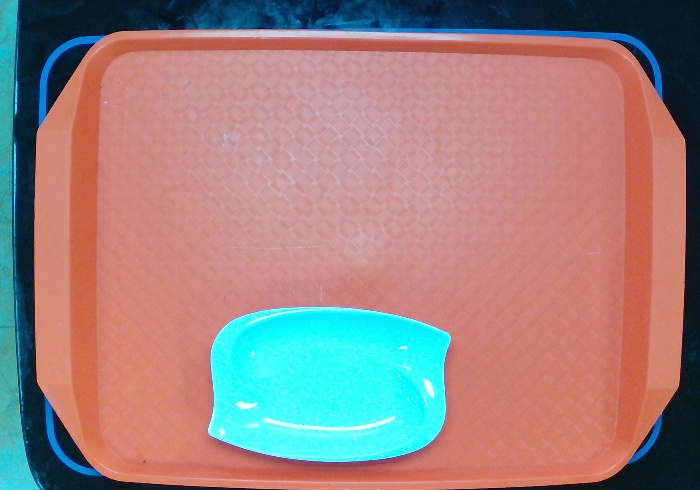RJxy-Jian_Jiao_Fang_Die: (195, 297, 467, 477)
